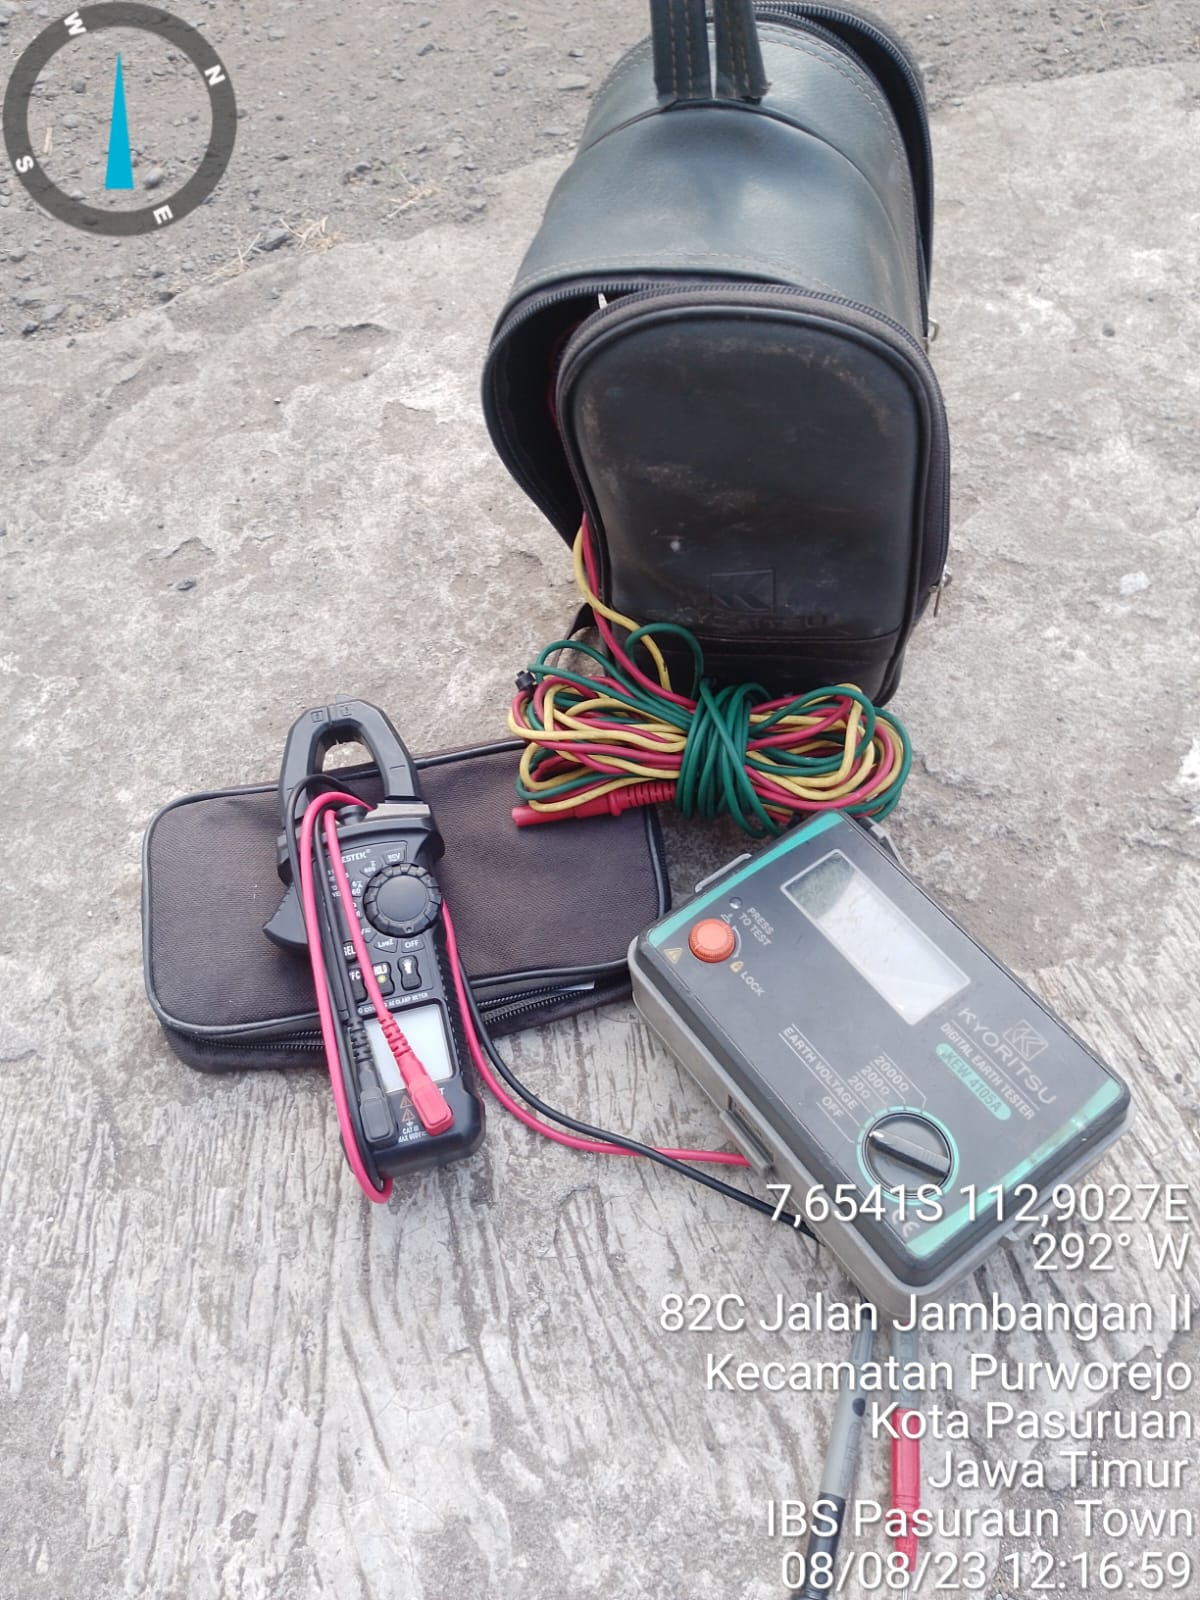TANG_AMPERE: (263, 699, 511, 1168)
